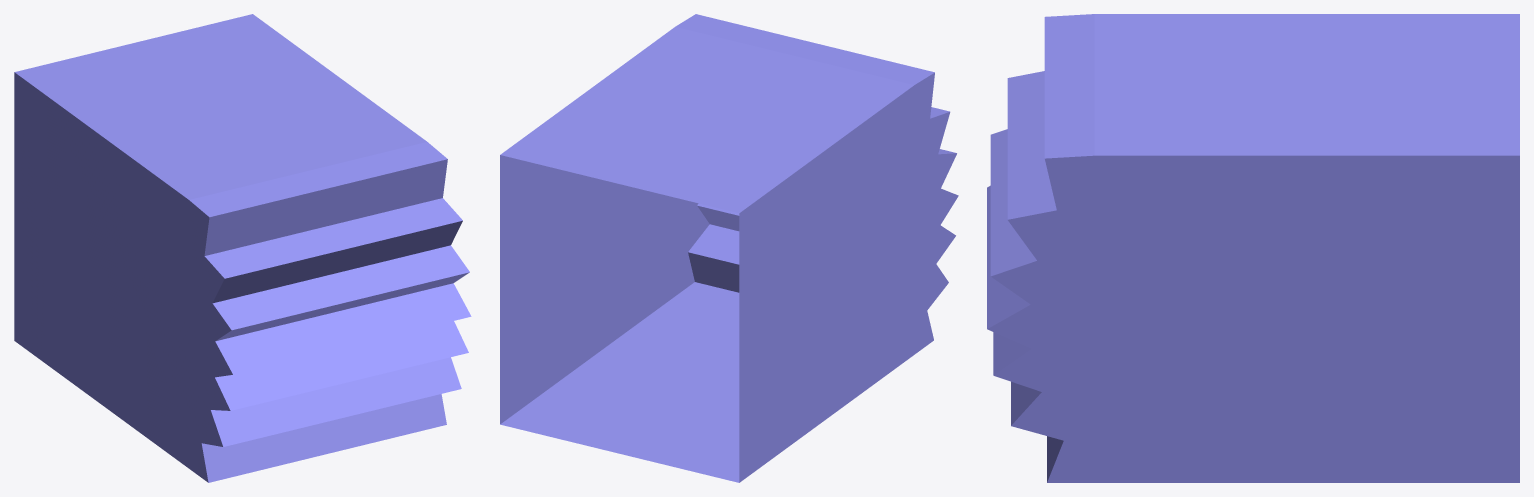
Rendered from original-6.obj.
3 renders of one model, left to right at view 1: azimuth 30°, elevation 25°; view 2: azimuth 150°, elevation 25°; view 3: azimuth 270°, elevation 25°, orthographic. The views are drawn at different scales.
Parts seen in each view (by area): view 1: #ID6; view 2: #ID6; view 3: #ID6.
Boxes of the visible parts, x1,y1,x2,y2 form: #ID6: (14,14,471,482); #ID6: (500,14,958,482); #ID6: (987,14,1519,482).
Bounding box in the file's own units: 0.2508 × 0.2701 × 0.3986.
